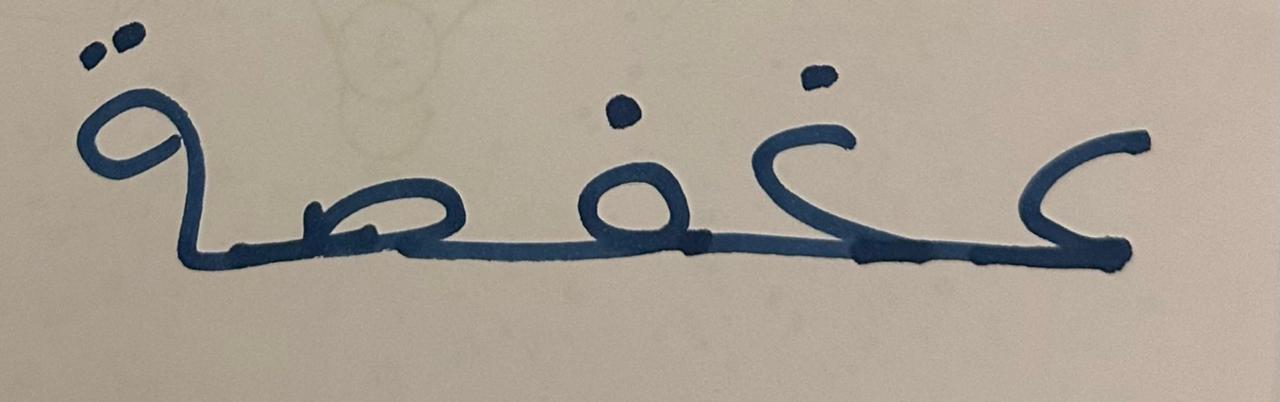ain: (934, 19, 1202, 349)
feh: (496, 7, 711, 339)
ghain: (716, 7, 931, 336)
seen: (250, 54, 492, 356)
thal: (49, 10, 247, 348)
